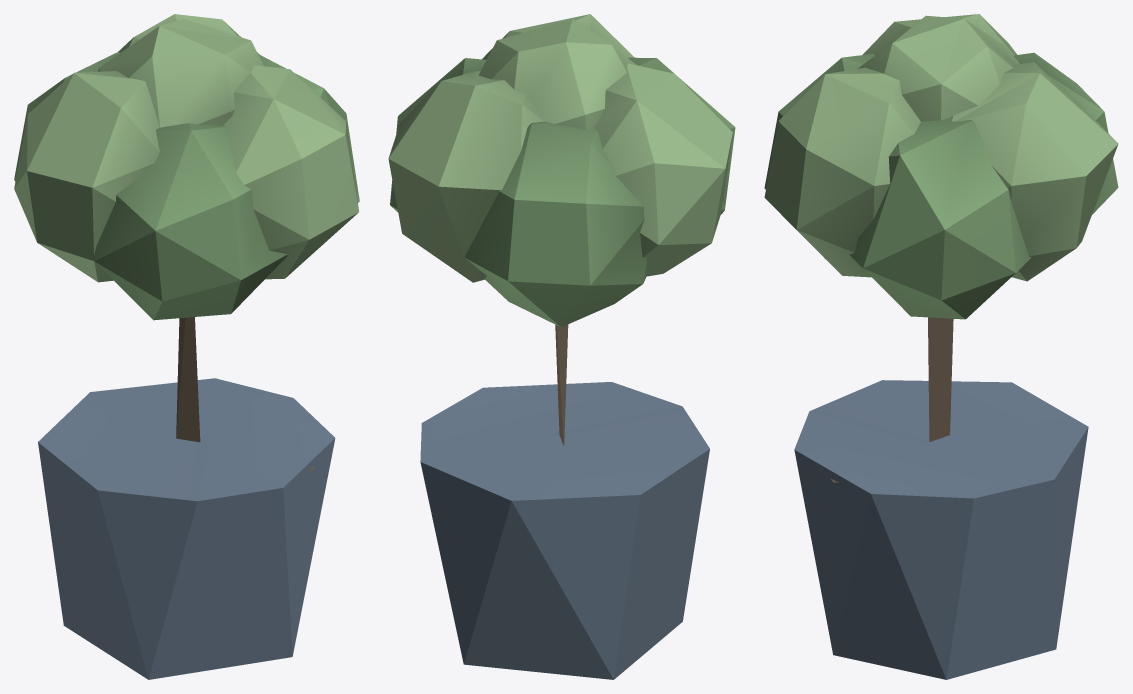
The model's file is furn_plant_pot__navy_low.glb.
3 views of the same model, side by side, from view 1: azimuth 30°, elevation 25°; view 2: azimuth 150°, elevation 25°; view 3: azimuth 270°, elevation 25° (orthographic).
Size of the model in its own units: 0.6393 by 1.14 by 0.6038.
